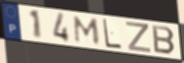1: (28, 9, 43, 40)
4: (51, 11, 71, 44)
B: (151, 24, 177, 56)
L: (102, 18, 124, 51)
M: (73, 15, 102, 46)
Z: (125, 20, 153, 54)
